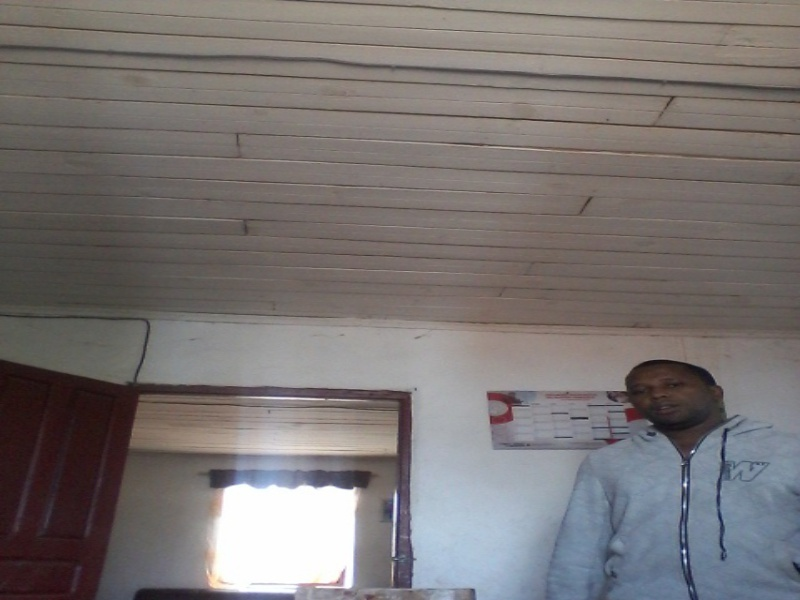TsisyArotava: (621, 347, 735, 442)
